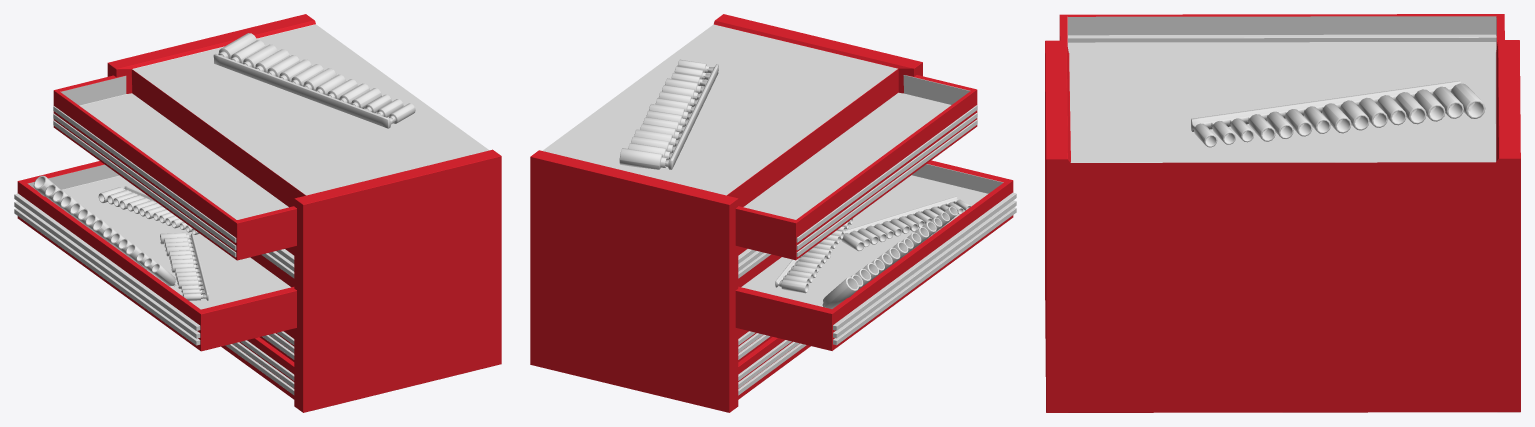
File: tool_shelf.glb
3 renders of one model, left to right at view 1: azimuth 30°, elevation 25°; view 2: azimuth 150°, elevation 25°; view 3: azimuth 270°, elevation 25°, orthographic. The views are drawn at different scales.
Parts seen in each view (by area): view 1: ToolShelf; view 2: ToolShelf; view 3: ToolShelf.
Part boxes in pixels (left/top/right/bottom): ToolShelf: left=14, top=14, right=501, bottom=412; ToolShelf: left=530, top=14, right=1016, bottom=412; ToolShelf: left=1045, top=14, right=1520, bottom=412.
Bounding box in the file's own units: 0.3606 × 0.2527 × 0.4053.
